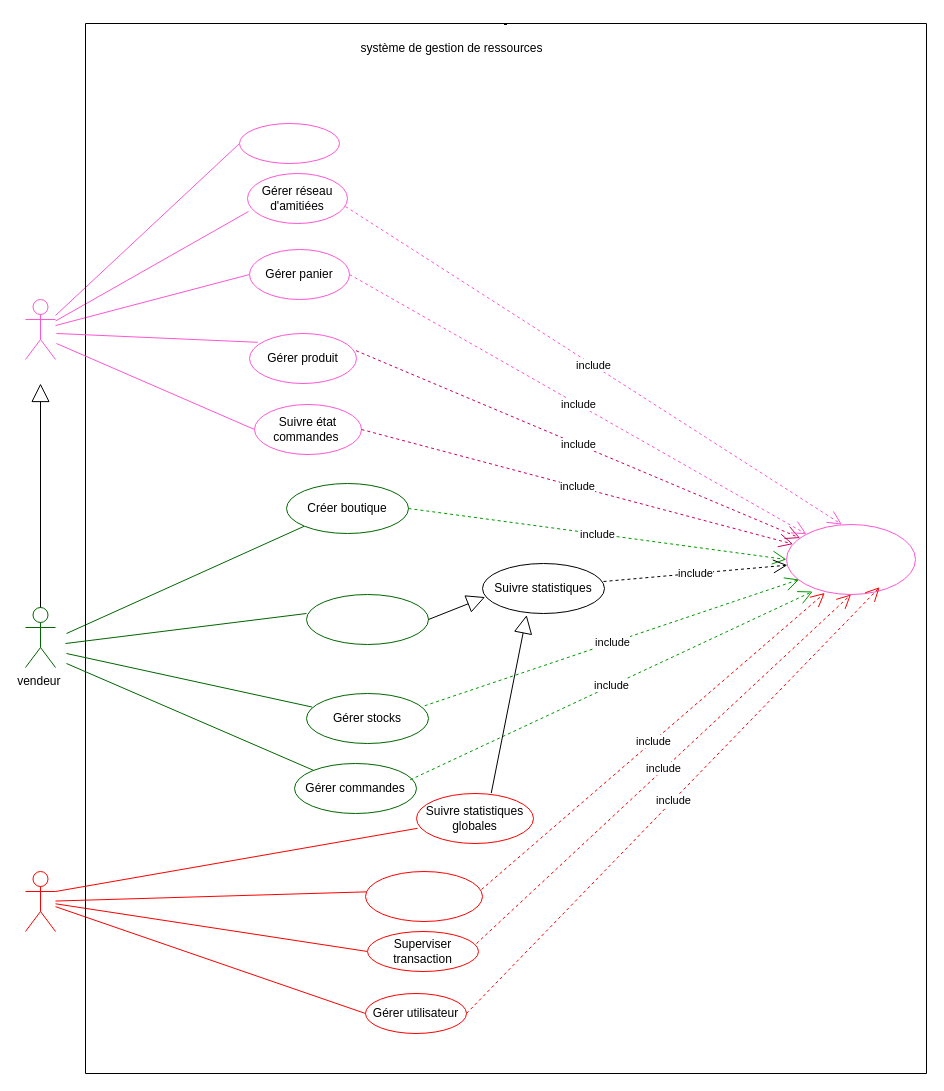
The diagram is 944 pixels wide and 1091 high, and some of its shapes have lost their labels. The box of each missing label's shape, as (x1, y1, x2, y2) in pixels:
acheteur: (24, 298, 56, 360)
admin: (24, 870, 56, 932)
Approuver vendeurs: (364, 870, 482, 922)
Créer compte: (238, 122, 340, 164)
s'authentifier: (786, 524, 916, 594)
Suivre statistiques ventes: (306, 594, 428, 644)
